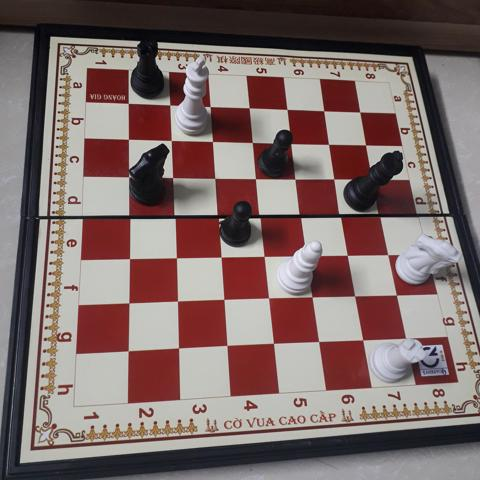xcorner: (354, 103, 370, 119), (317, 102, 333, 118), (280, 100, 296, 116), (242, 99, 258, 115), (162, 97, 178, 113), (121, 95, 137, 111), (360, 136, 376, 152), (323, 135, 339, 151), (284, 134, 300, 150), (245, 133, 261, 149), (205, 132, 221, 148), (163, 131, 179, 147), (367, 170, 383, 186), (328, 170, 344, 186), (289, 169, 305, 185), (249, 169, 265, 185), (207, 169, 223, 185), (165, 168, 181, 184), (121, 168, 137, 184), (374, 207, 390, 223), (334, 207, 350, 223), (294, 207, 310, 223), (252, 207, 268, 223), (210, 207, 226, 223), (166, 207, 182, 223), (121, 208, 137, 224), (381, 245, 397, 261), (341, 246, 357, 262), (299, 247, 315, 263), (256, 248, 272, 264), (212, 248, 228, 264), (167, 249, 183, 265), (120, 250, 136, 266), (389, 287, 405, 303), (347, 288, 363, 304), (305, 289, 321, 305), (261, 291, 277, 307), (215, 292, 231, 308), (169, 293, 185, 309), (120, 295, 136, 311), (397, 330, 413, 346), (355, 332, 371, 348), (265, 336, 281, 352), (218, 339, 234, 355), (170, 341, 186, 357), (120, 343, 136, 359), (203, 98, 218, 114), (121, 131, 137, 146), (311, 334, 326, 350)
